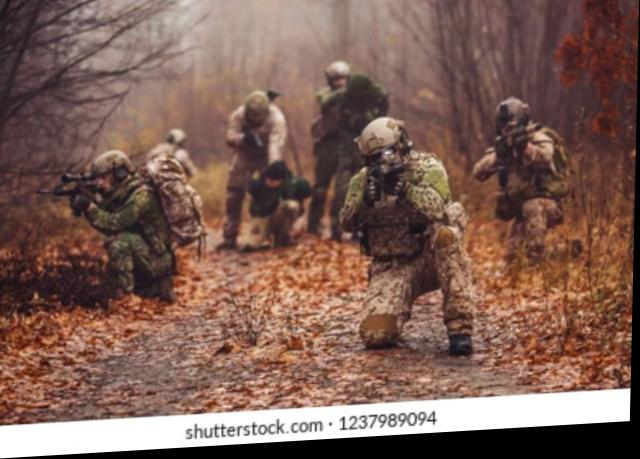other: (347, 126, 471, 356), (76, 153, 190, 300), (226, 91, 298, 249), (482, 113, 559, 251), (326, 58, 369, 125), (153, 127, 196, 182)
